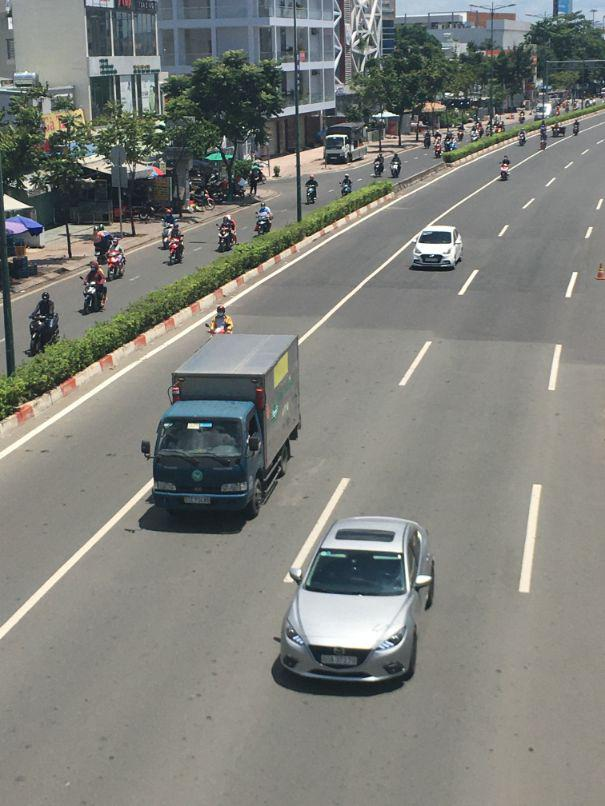car: (278, 514, 439, 691), (411, 226, 462, 273)
motorbike: (28, 304, 61, 356), (82, 279, 108, 313), (217, 219, 236, 254), (108, 246, 127, 281), (168, 233, 185, 264), (255, 205, 272, 233), (373, 154, 385, 176)
truck: (152, 330, 301, 521), (323, 121, 368, 166)
